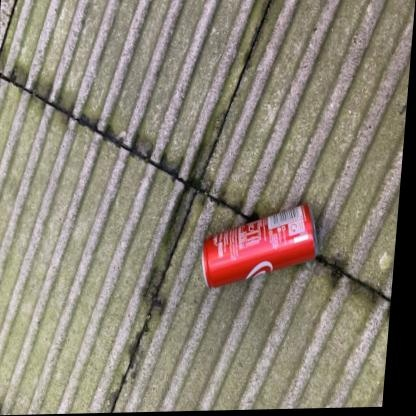trash: (202, 204, 316, 287)
